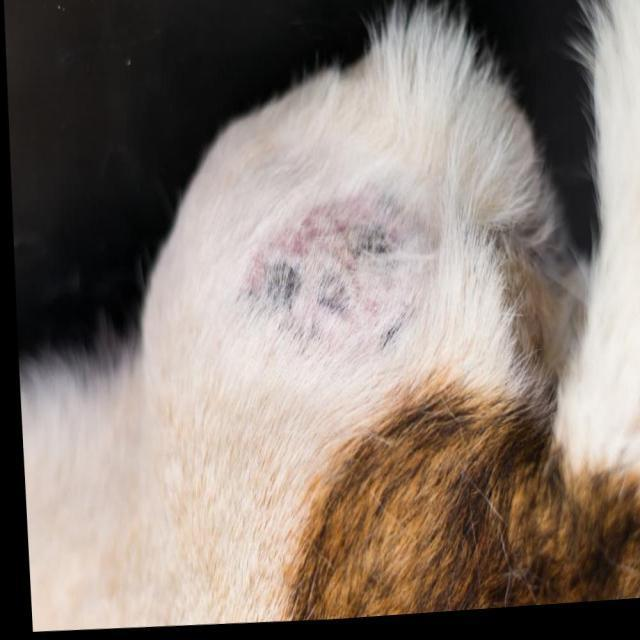di ung bo chet: (238, 164, 458, 399)
